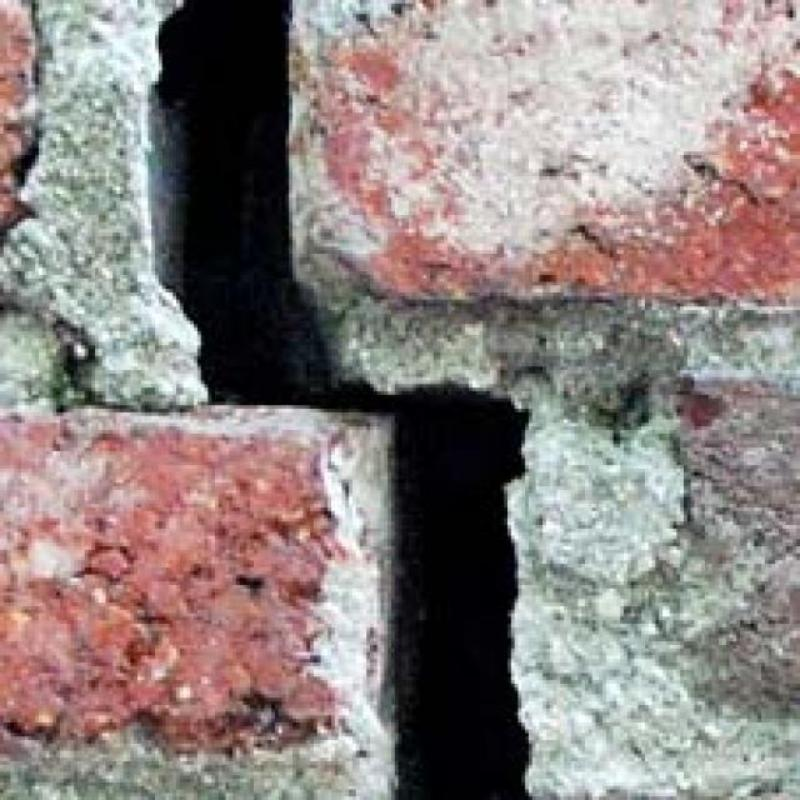pothole: (153, 0, 528, 800)
